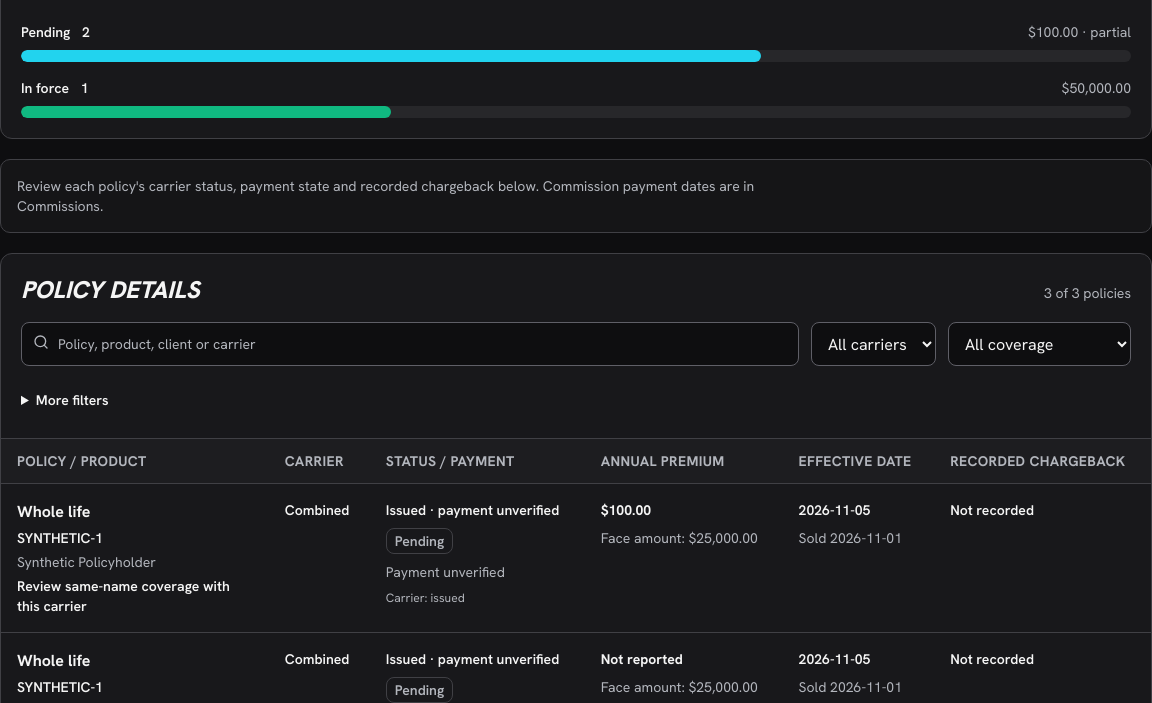
Scenario: personal financial policy book › keeps the coverage graph based on policy counts when the table is filtered
(page scrolled)
Expected: the picture named "Pending: 2, In force: 1. Annual premium: Pending: $100.00 partial, In force: $50,000.00." is shown, [21, 22, 1131, 118]
Select "In force" in the dropdown named "Coverage" at [1040, 344], box [948, 322, 1131, 366]
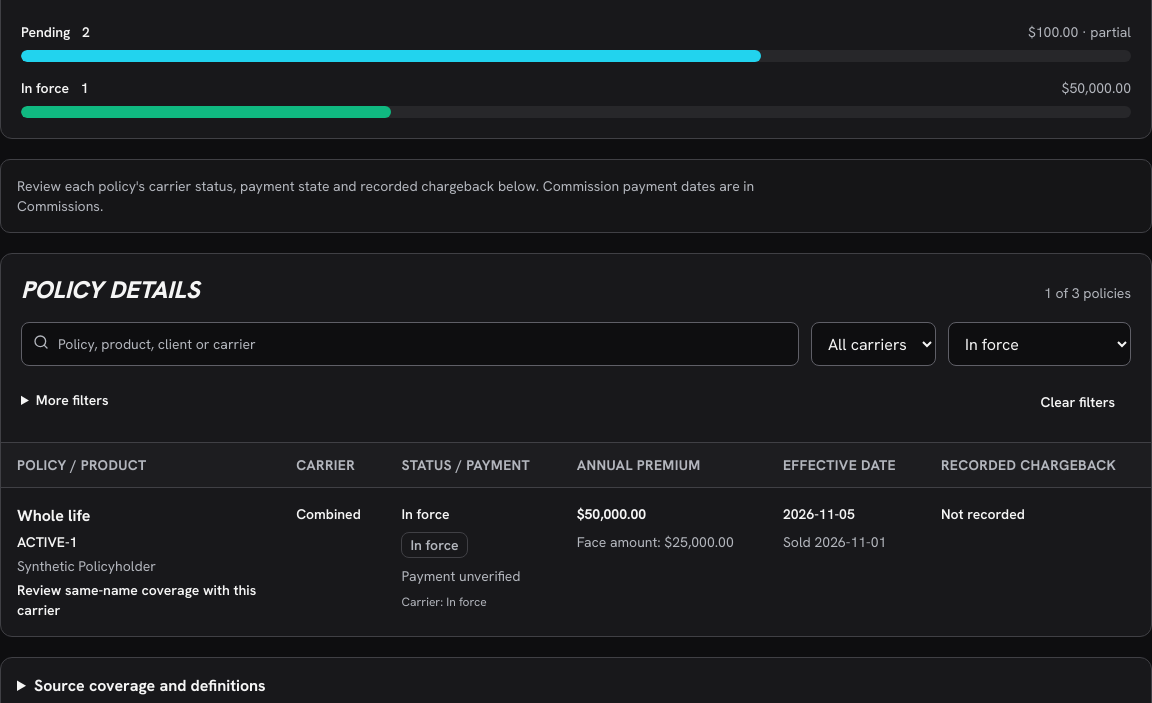
Expected: the text "ACTIVE-1" is shown, [17, 533, 77, 551]
Now the text "1 of 3 policies" is shown, box [1044, 283, 1131, 303]
